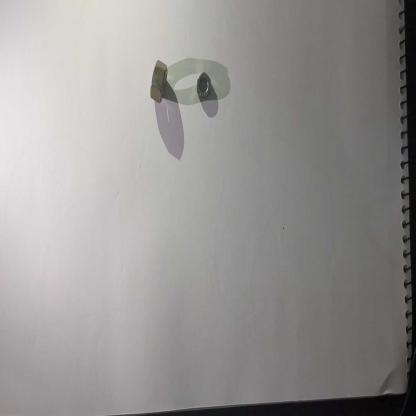NUTS: (149, 57, 172, 106), (196, 66, 212, 106)
